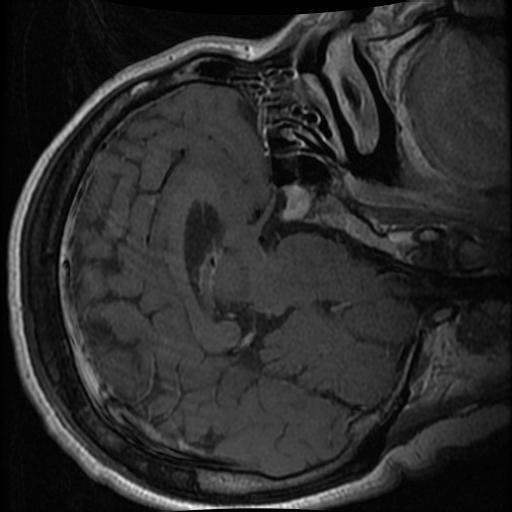pituitary tumour: (282, 184, 311, 219)
